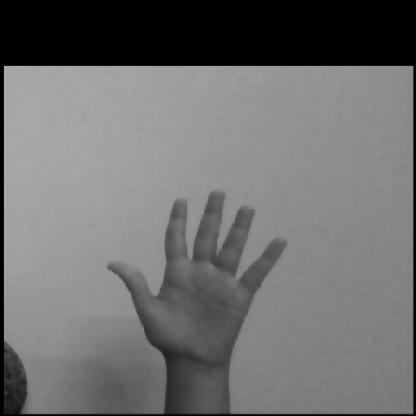palm: (87, 177, 312, 374)
